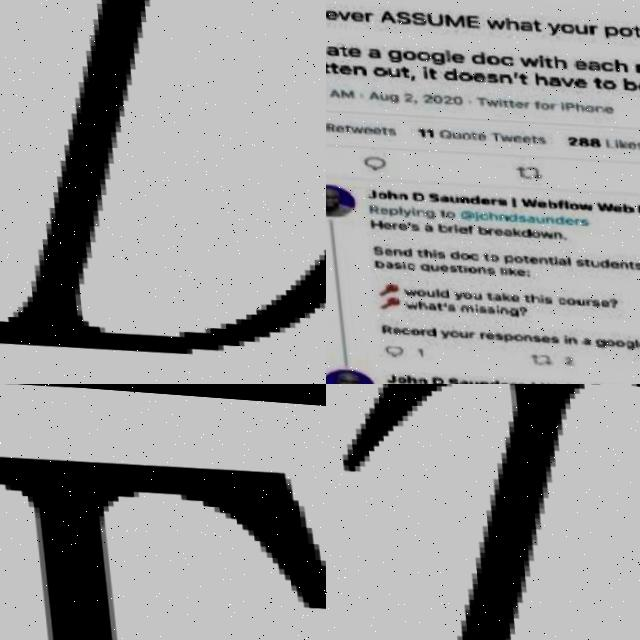0: (449, 93, 458, 102), (428, 93, 437, 101)
1: (421, 126, 428, 134), (407, 346, 414, 354), (413, 126, 419, 134)
2: (399, 91, 408, 100), (562, 132, 572, 140), (418, 92, 426, 100), (439, 93, 447, 101), (555, 352, 563, 360)
8: (573, 132, 584, 141), (585, 133, 595, 141)
A: (375, 8, 393, 21), (582, 55, 597, 66), (363, 46, 377, 57), (543, 71, 557, 82), (515, 17, 530, 27), (326, 44, 334, 55), (326, 87, 335, 96), (364, 90, 374, 98), (415, 222, 426, 229), (484, 291, 494, 298), (448, 378, 459, 384), (572, 333, 581, 340), (520, 212, 528, 219), (376, 260, 385, 266), (434, 193, 442, 199), (496, 226, 504, 232), (550, 255, 558, 261), (420, 301, 428, 307)
B: (619, 72, 634, 85), (540, 196, 551, 204), (430, 221, 439, 230), (471, 223, 480, 231), (367, 258, 376, 266), (617, 199, 625, 207), (556, 379, 566, 384)
C: (595, 56, 610, 66), (496, 53, 510, 62), (391, 325, 402, 332), (398, 261, 408, 267), (548, 294, 557, 300), (463, 251, 471, 257)
D: (0, 0, 326, 374), (466, 48, 481, 61), (439, 65, 454, 78), (405, 190, 417, 199), (421, 375, 433, 384), (591, 254, 601, 263), (395, 246, 405, 255), (479, 375, 488, 384), (463, 193, 473, 201), (502, 209, 510, 218), (442, 248, 450, 257), (417, 325, 425, 334), (632, 199, 640, 208), (514, 225, 522, 233), (432, 287, 440, 295), (549, 212, 557, 220)
E: (462, 12, 477, 25), (333, 63, 348, 74), (467, 68, 482, 79), (343, 45, 358, 56), (570, 72, 584, 83), (446, 50, 460, 61), (569, 55, 584, 65), (348, 10, 360, 20), (326, 8, 335, 19), (374, 221, 385, 228), (633, 75, 640, 85), (474, 194, 484, 201), (375, 247, 385, 254), (510, 97, 519, 104), (372, 206, 381, 213), (508, 265, 517, 272), (630, 335, 639, 342), (530, 197, 540, 203), (557, 214, 567, 220), (600, 101, 608, 108), (331, 124, 339, 131), (358, 125, 366, 132), (516, 132, 524, 139), (622, 136, 630, 143), (606, 200, 614, 207), (392, 221, 400, 228), (522, 253, 530, 260), (432, 262, 440, 269), (502, 292, 510, 299), (592, 294, 600, 301), (367, 126, 376, 132), (451, 224, 460, 230), (487, 226, 496, 232), (490, 379, 500, 384), (472, 130, 480, 136), (507, 132, 515, 138), (602, 257, 610, 263), (383, 326, 391, 332), (477, 329, 485, 335), (532, 332, 540, 338), (637, 21, 640, 32), (545, 381, 556, 384)
F: (551, 195, 558, 204), (460, 222, 467, 231), (530, 96, 537, 104), (567, 380, 574, 384)
G: (384, 46, 399, 61), (426, 47, 441, 62), (500, 304, 510, 313), (586, 334, 595, 343), (616, 335, 625, 344), (385, 92, 394, 101), (418, 208, 427, 216)
H: (501, 14, 516, 27), (548, 51, 563, 64), (610, 54, 625, 67), (529, 69, 544, 81), (362, 218, 375, 227), (397, 373, 408, 382), (570, 98, 579, 107), (522, 290, 530, 299), (410, 299, 418, 308), (382, 188, 390, 196), (482, 209, 490, 217), (416, 247, 424, 255)
I: (534, 51, 541, 63), (419, 64, 423, 76), (546, 252, 550, 261), (496, 263, 500, 272), (466, 301, 470, 310), (494, 94, 498, 102), (556, 98, 560, 106), (609, 134, 613, 142), (447, 221, 451, 229), (455, 262, 459, 270), (425, 247, 428, 255), (394, 258, 397, 266), (531, 291, 534, 299), (488, 302, 491, 310), (555, 332, 559, 338), (406, 206, 408, 214)
J: (361, 188, 369, 197), (377, 372, 385, 381), (468, 208, 471, 219)
K: (505, 224, 513, 233), (494, 289, 502, 298), (501, 263, 508, 272), (614, 134, 621, 142)
L: (600, 134, 609, 142), (442, 47, 446, 59), (557, 195, 561, 203), (491, 263, 495, 271), (427, 286, 430, 294), (560, 253, 562, 261), (627, 334, 629, 342), (573, 380, 577, 384), (392, 205, 393, 213)
M: (441, 11, 462, 24), (336, 89, 350, 98), (630, 57, 640, 68), (451, 302, 465, 309)
N: (494, 70, 509, 80), (347, 64, 362, 73), (491, 211, 501, 218), (391, 191, 400, 198), (409, 208, 418, 215), (538, 212, 547, 219), (385, 247, 394, 254), (611, 257, 620, 264), (531, 253, 539, 260), (408, 376, 416, 383), (453, 194, 462, 200), (490, 304, 499, 310), (469, 378, 478, 384), (590, 101, 598, 107), (546, 228, 554, 234), (470, 264, 478, 270), (514, 331, 522, 337), (558, 333, 566, 339)
O: (615, 21, 631, 32), (397, 47, 413, 58), (367, 64, 383, 75), (453, 68, 469, 79), (556, 18, 571, 29), (481, 51, 496, 62), (412, 48, 426, 59), (598, 74, 613, 84), (386, 375, 397, 382), (370, 190, 380, 197), (562, 198, 572, 205), (452, 250, 461, 257), (408, 287, 417, 294), (558, 293, 567, 300), (440, 328, 450, 334), (504, 331, 514, 337), (536, 98, 544, 105), (472, 209, 480, 216), (524, 227, 532, 234), (506, 252, 514, 259), (460, 263, 468, 270), (403, 326, 411, 333), (439, 208, 448, 214), (482, 252, 491, 258), (454, 289, 463, 295), (606, 336, 615, 342), (580, 100, 588, 106), (456, 130, 464, 136), (597, 334, 605, 340)
P: (600, 20, 615, 33), (494, 330, 504, 339), (560, 98, 571, 106), (382, 206, 390, 214), (497, 252, 505, 260)
Q: (433, 126, 448, 137), (412, 261, 422, 270)
R: (586, 20, 595, 30), (373, 323, 383, 332), (362, 204, 373, 212), (361, 11, 369, 21), (520, 97, 526, 104), (546, 98, 552, 105), (567, 213, 573, 220), (460, 328, 466, 335), (484, 195, 490, 201), (440, 224, 446, 230), (481, 225, 487, 231), (411, 327, 417, 333), (471, 329, 477, 335), (577, 294, 583, 300), (326, 121, 329, 130), (385, 221, 389, 227), (500, 380, 506, 384)
S: (408, 10, 424, 23), (393, 9, 408, 22), (481, 69, 496, 80), (438, 375, 449, 384), (422, 191, 433, 199), (365, 245, 375, 253), (381, 126, 390, 133), (490, 195, 499, 202), (583, 295, 592, 302), (469, 303, 478, 310), (523, 332, 532, 339), (404, 222, 412, 229), (536, 292, 544, 299), (573, 215, 582, 221), (429, 250, 438, 256), (626, 258, 635, 264), (437, 302, 446, 308), (568, 255, 575, 262), (532, 133, 540, 139), (631, 137, 639, 143), (511, 212, 519, 218), (386, 260, 394, 266), (441, 263, 449, 269), (478, 264, 486, 270), (486, 330, 494, 336), (541, 333, 549, 339), (479, 303, 485, 310), (506, 380, 516, 384)
T: (326, 384, 640, 640), (0, 419, 326, 640), (629, 20, 638, 32), (539, 52, 548, 64), (335, 43, 343, 56), (514, 68, 522, 81), (471, 94, 481, 103), (530, 16, 537, 28), (326, 61, 333, 73), (397, 64, 404, 76), (425, 65, 432, 77), (590, 72, 596, 84), (486, 129, 495, 137), (503, 95, 510, 104), (478, 288, 484, 297), (449, 262, 456, 269), (427, 301, 434, 308), (432, 207, 438, 215), (515, 290, 521, 298), (496, 96, 503, 102), (338, 124, 345, 130), (525, 131, 532, 137), (475, 250, 481, 257), (539, 253, 546, 259), (620, 256, 626, 263), (465, 129, 471, 135), (409, 248, 415, 254), (515, 252, 521, 258), (576, 255, 582, 261), (377, 125, 381, 132)
U: (424, 10, 440, 23), (570, 19, 585, 30), (382, 65, 397, 76), (447, 129, 456, 136), (464, 290, 473, 297), (375, 91, 383, 98), (444, 193, 452, 200), (419, 288, 427, 295), (568, 293, 576, 300), (529, 213, 538, 219), (582, 256, 591, 262), (422, 262, 430, 268), (450, 328, 458, 334), (460, 378, 468, 384)
V: (556, 72, 571, 83), (334, 9, 347, 20)
W: (482, 15, 501, 26), (515, 52, 534, 63), (589, 198, 607, 207), (514, 195, 531, 204), (480, 96, 495, 103), (531, 227, 546, 234), (530, 378, 547, 384), (395, 286, 409, 293), (396, 300, 410, 307), (495, 131, 507, 138), (572, 199, 586, 205), (345, 125, 358, 131), (605, 382, 623, 384)
Y: (544, 18, 557, 31), (445, 288, 454, 297), (396, 207, 404, 215), (431, 328, 439, 336)
